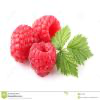Raspberry leaf: (68, 34, 95, 64), (55, 49, 80, 79), (51, 24, 72, 50)
